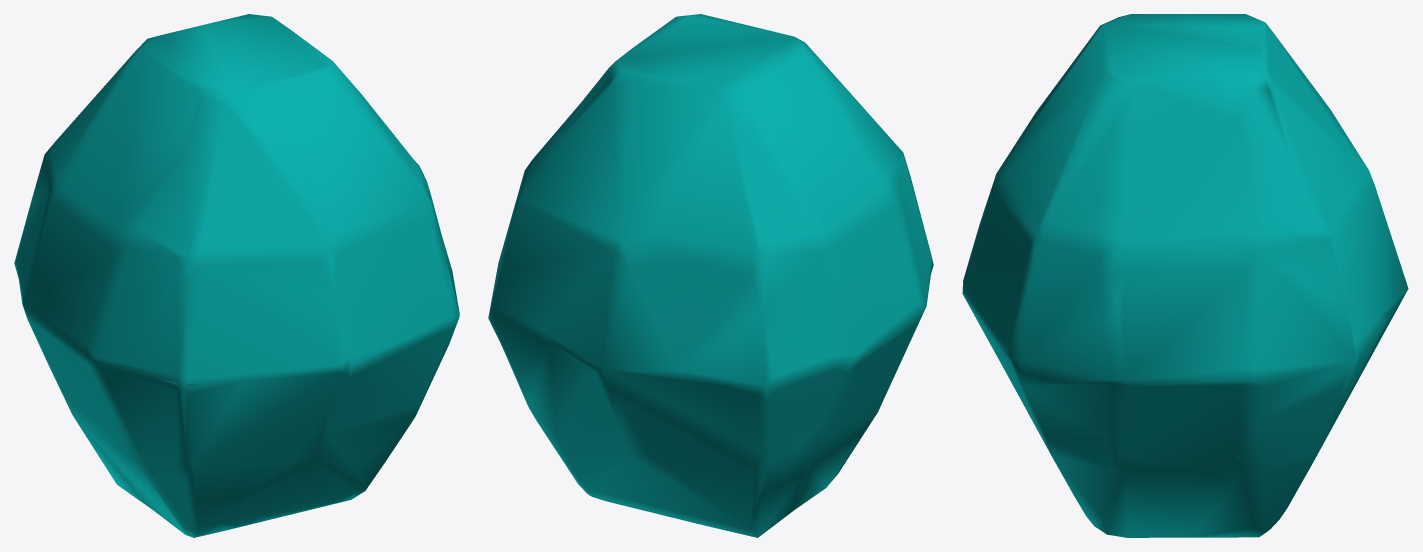
File: gen3d-gemstone-lod1.glb
The picture shows the model from 3 angles, left to right: view 1: azimuth 30°, elevation 25°; view 2: azimuth 150°, elevation 25°; view 3: azimuth 270°, elevation 25°; orthographic projection. The views are drawn at different scales.
Parts seen in each view (by area): view 1: part_0; view 2: part_0; view 3: part_0.
Part boxes in pixels (<box>): part_0: <box>14,14,459,537</box>; part_0: <box>488,14,933,537</box>; part_0: <box>962,14,1408,537</box>.
Size of the model in its own units: 0.8682 by 1 by 0.8988.
